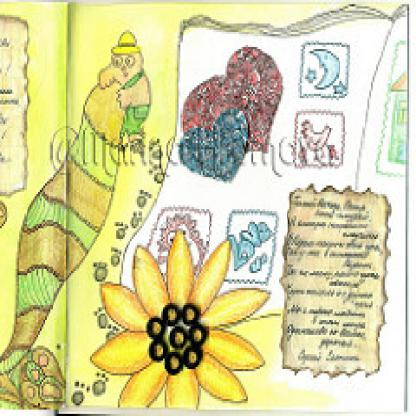SUN FLOWER: (78, 204, 286, 413)
